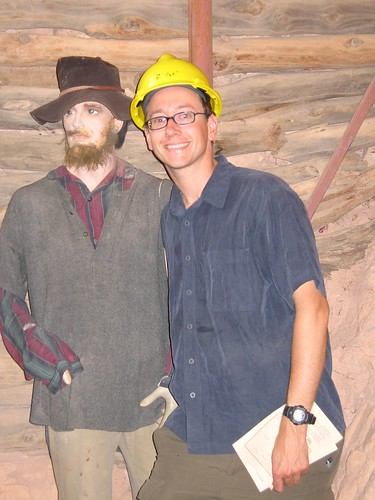person hardhat: (124, 46, 345, 496)
